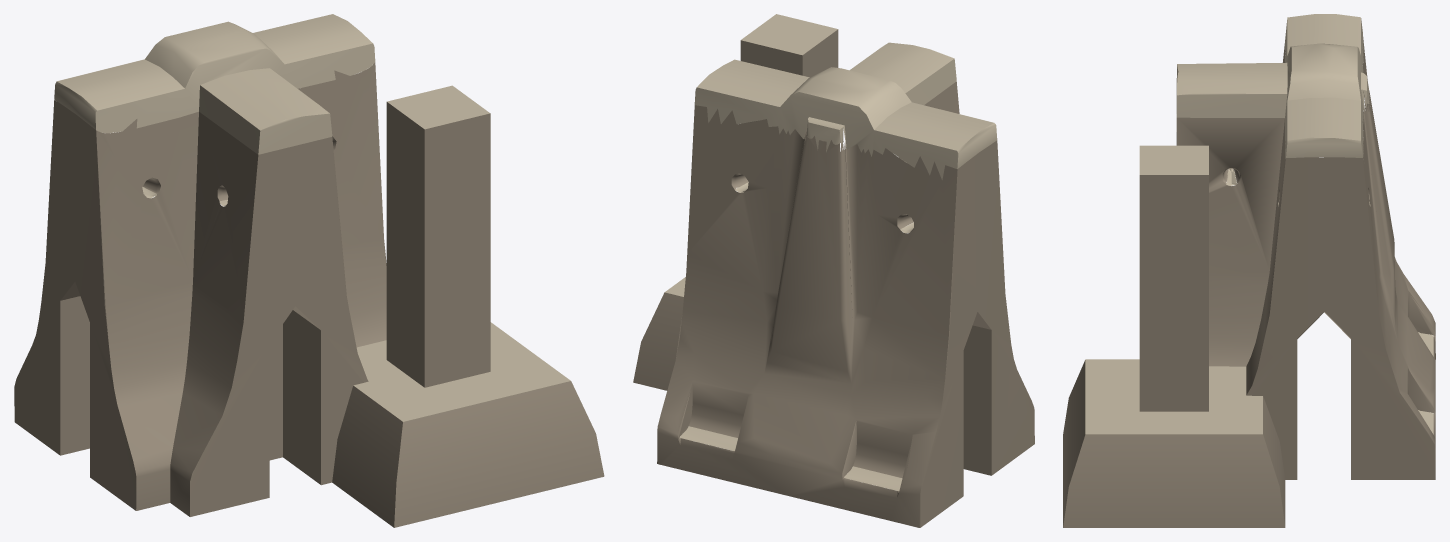
Rendered from stone-wall-esw-fill.glb.
The picture shows the model from 3 angles, left to right: view 1: azimuth 30°, elevation 25°; view 2: azimuth 150°, elevation 25°; view 3: azimuth 270°, elevation 25°; orthographic projection. The views are drawn at different scales.
Visible parts, largest first — view 1: body; view 2: body; view 3: body.
Part boxes in pixels (bbox=[...]): body: bbox=[14, 14, 604, 527]; body: bbox=[633, 14, 1034, 527]; body: bbox=[1063, 14, 1435, 527].
Size of the model in its own units: 1.36 by 1.32 by 1.24.
